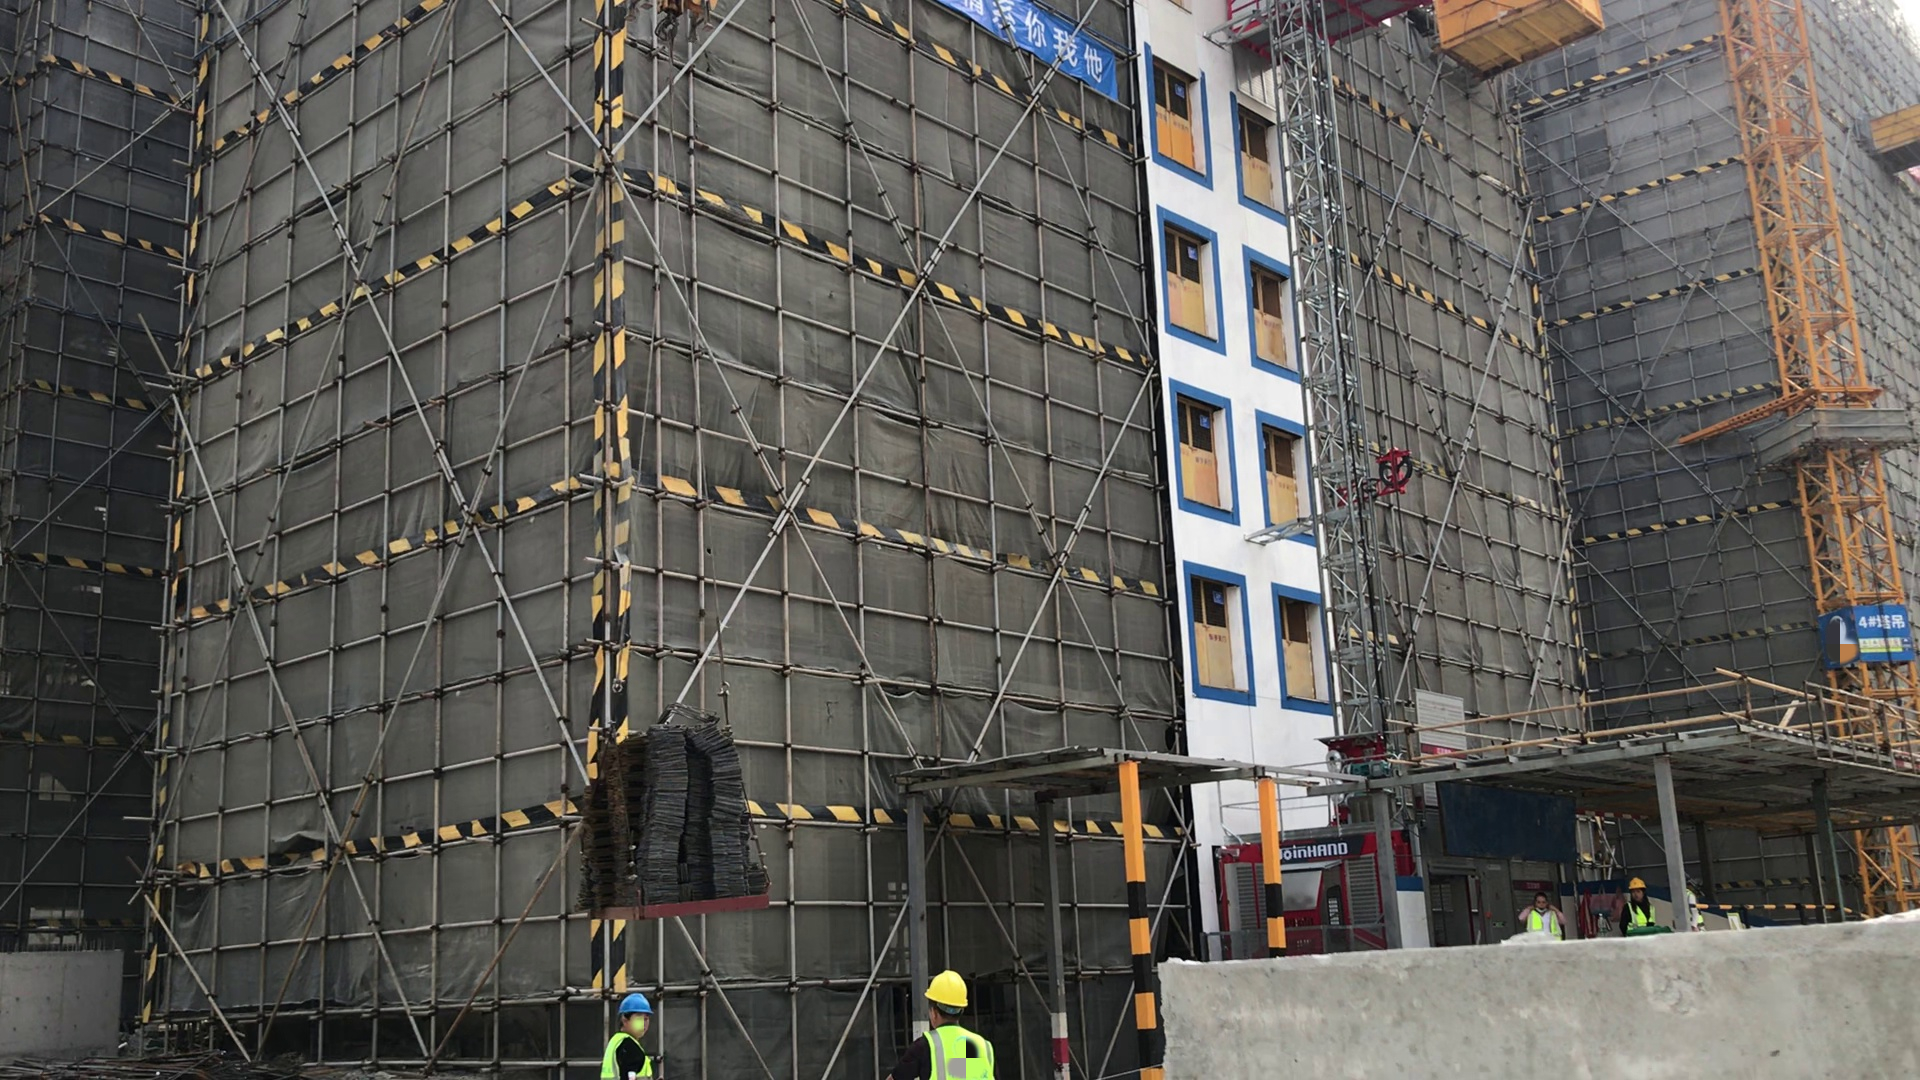helmet: (924, 968, 968, 1009), (615, 993, 652, 1015), (1628, 876, 1646, 890)
person: (886, 968, 1000, 1080), (597, 995, 663, 1080), (1618, 874, 1664, 930), (1518, 895, 1567, 939), (1688, 889, 1706, 934)
vest: (922, 1025, 993, 1080), (604, 1031, 656, 1077), (1527, 908, 1560, 937), (1628, 901, 1657, 930)
